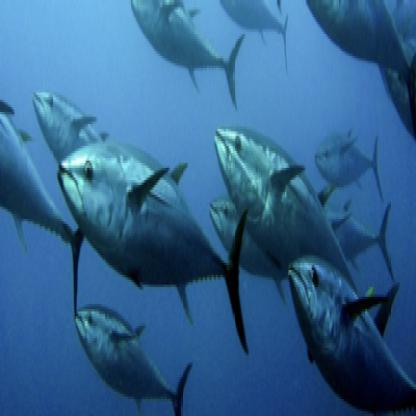Scombridae -Tunas-: (54, 137, 253, 366), (287, 249, 416, 405), (74, 295, 201, 412), (132, 1, 244, 113)
